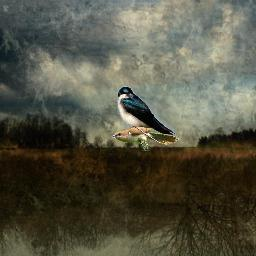Cuckoo: (111, 127, 179, 151)
Swallow: (117, 86, 178, 140)
